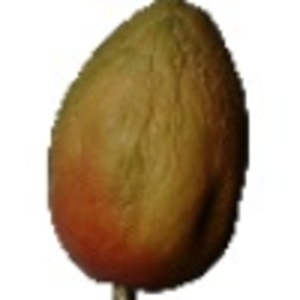mamão: (30, 2, 256, 291)
